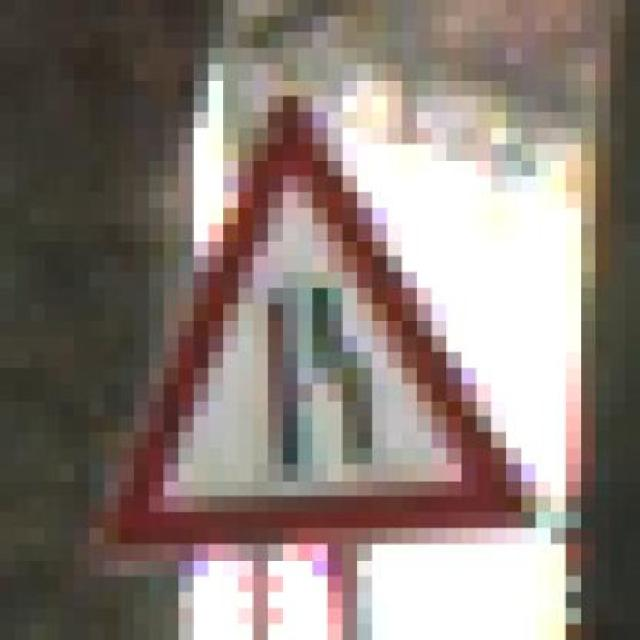-Road narrows on right: (68, 55, 546, 567)
